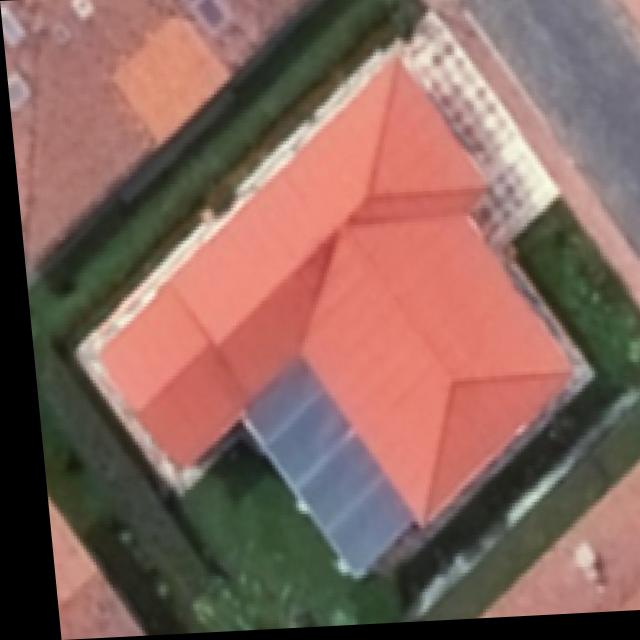Batiment: (72, 58, 572, 529), (470, 466, 640, 618)
